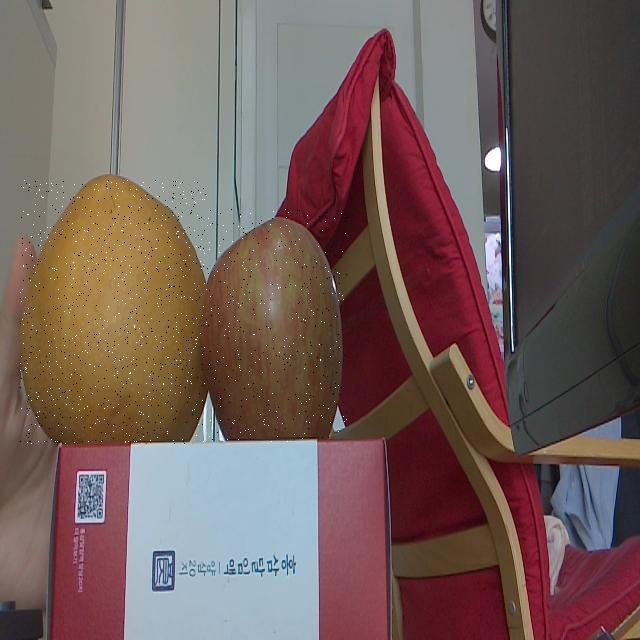apple: (207, 209, 347, 442)
pear: (20, 180, 207, 444)
